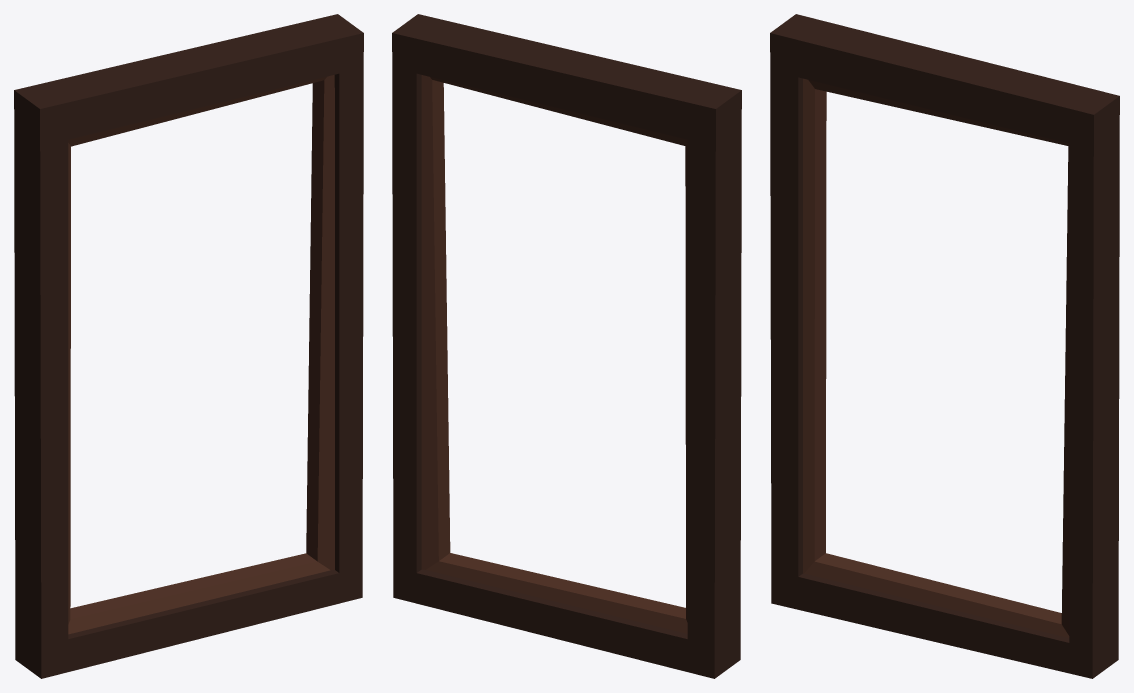
File: Window 2x4 Frame.glb
The picture shows the model from 3 angles, left to right: view 1: azimuth 30°, elevation 25°; view 2: azimuth 150°, elevation 25°; view 3: azimuth 330°, elevation 25°; orthographic projection.
Visible parts, largest first — view 1: Window 2x4 Frame; view 2: Window 2x4 Frame; view 3: Window 2x4 Frame.
Part boxes in pixels (<box>): Window 2x4 Frame: <box>14,14,363,678</box>; Window 2x4 Frame: <box>392,14,741,678</box>; Window 2x4 Frame: <box>770,14,1119,678</box>.
Bounding box in the file's own units: 1.15 × 1.94 × 0.16.
1 material, 1 textured.
